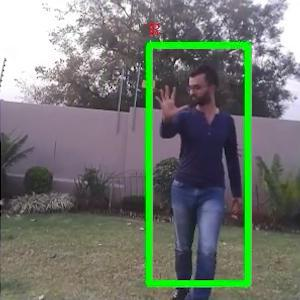follow_hand: (152, 80, 189, 123)
